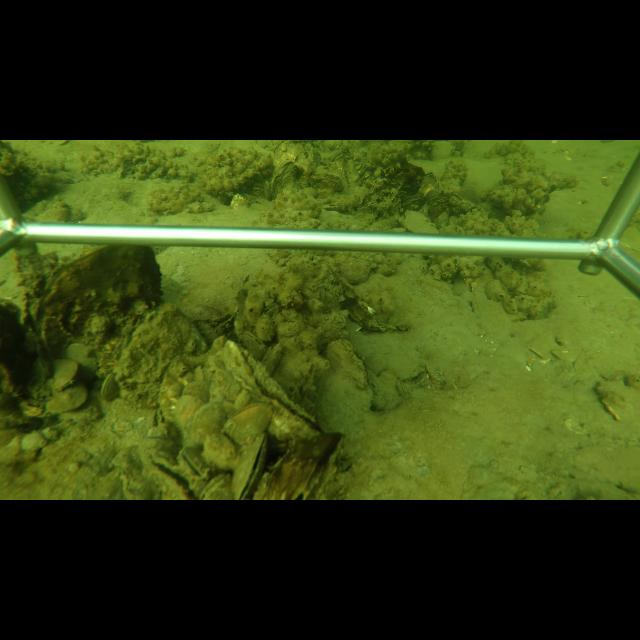Oyster-Closed: (112, 307, 203, 397), (326, 338, 373, 407), (221, 402, 275, 444), (177, 445, 212, 481), (270, 160, 300, 200), (398, 208, 440, 233), (50, 358, 80, 392), (235, 329, 267, 359), (199, 471, 233, 499), (100, 373, 119, 401), (434, 211, 450, 225)
Oyster-Open: (222, 344, 327, 435), (143, 451, 200, 499), (232, 434, 268, 496), (200, 308, 239, 336)
